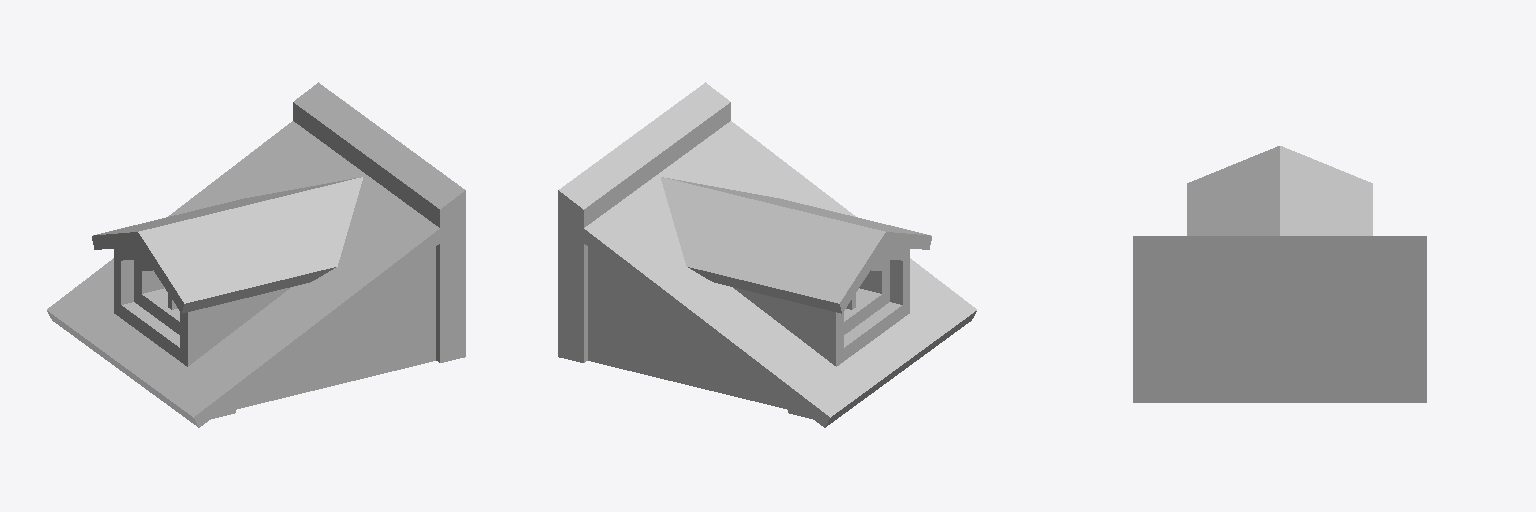
File: roof-window.obj
3 views of the same model, side by side, from view 1: azimuth 30°, elevation 25°; view 2: azimuth 150°, elevation 25°; view 3: azimuth 270°, elevation 25° (orthographic).
Parts seen in each view (by area): view 1: roof-window; view 2: roof-window; view 3: roof-window.
Part boxes in pixels (x1,y1,x2,y2): roof-window: (47, 82, 465, 427); roof-window: (558, 82, 976, 427); roof-window: (1133, 146, 1426, 402).
Size of the model in its own units: 1.07 by 0.6483 by 1.